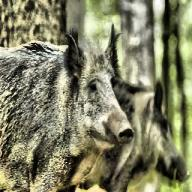boar: (0, 24, 134, 191)
